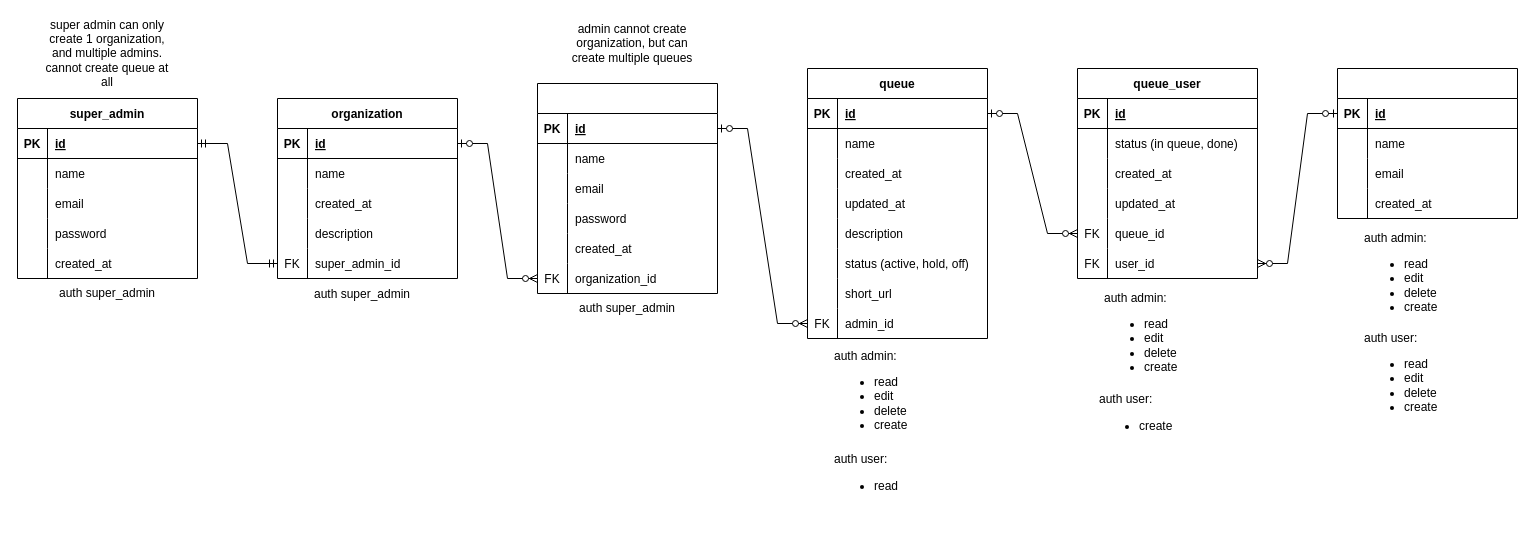
Image size: 1535x535. Some labels were removed from this diagram. Here are the shapes that lost their labels. From the top down, the box of each, then its label:
(1336, 68, 1518, 218): user
(536, 82, 718, 294): admin
